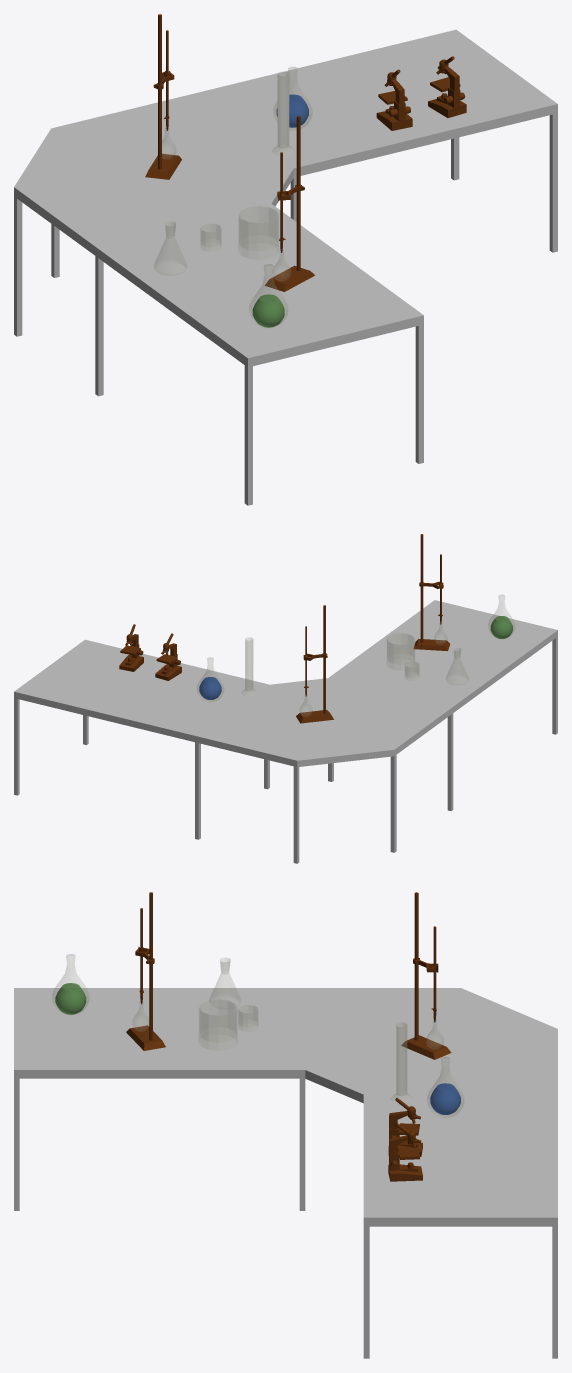
Rendered from science_desk_1.fbx.
3 views of the same model, one above another, from view 1: azimuth 30°, elevation 25°; view 2: azimuth 150°, elevation 25°; view 3: azimuth 270°, elevation 25° (orthographic). The views are drawn at different scales.
Parts seen in each view (by area): view 1: pCube57, polySurface80, pCylinder53, polySurface77, pSphere20, pCylinder49, pCylinder54, pCylinder52, pSphere19, pSphere18, pCylinder50; view 2: pCube57, polySurface80, polySurface77, pCylinder53, pSphere20, pSphere19, pCylinder54, pCylinder49, pCylinder52, pSphere18, pSphere21; view 3: pCube57, polySurface77, pCylinder53, polySurface80, pCylinder49, pSphere20, pSphere19, pCylinder52, pCylinder54, pSphere18, pSphere21, pCylinder50.
Boxes of the visible parts, left/top/right/bottom form: pCube57: left=14, top=29, right=557, bottom=505; polySurface80: left=265, top=116, right=314, bottom=291; pCylinder53: left=238, top=206, right=278, bottom=257; polySurface77: left=145, top=14, right=181, bottom=179; pSphere20: left=249, top=264, right=287, bottom=327; pCylinder49: left=428, top=56, right=466, bottom=117; pCylinder54: left=376, top=69, right=412, bottom=130; pCylinder52: left=272, top=71, right=294, bottom=155; pSphere19: left=273, top=67, right=312, bottom=130; pSphere18: left=252, top=294, right=284, bottom=327; pCylinder50: left=154, top=221, right=186, bottom=269; pCube57: left=14, top=600, right=557, bottom=863; polySurface80: left=413, top=534, right=450, bottom=651; polySurface77: left=296, top=605, right=333, bottom=723; pCylinder53: left=387, top=633, right=415, bottom=669; pSphere20: left=488, top=595, right=515, bottom=639; pSphere19: left=197, top=657, right=223, bottom=701; pCylinder54: left=155, top=633, right=181, bottom=680; pCylinder49: left=119, top=624, right=143, bottom=671; pCylinder52: left=242, top=637, right=256, bottom=695; pSphere18: left=490, top=616, right=512, bottom=638; pSphere21: left=199, top=677, right=221, bottom=699; pCube57: left=14, top=988, right=557, bottom=1358; polySurface77: left=401, top=892, right=451, bottom=1059; pCylinder53: left=199, top=998, right=237, bottom=1050; polySurface80: left=126, top=892, right=165, bottom=1050; pCylinder49: left=388, top=1123, right=422, bottom=1181; pSphere20: left=52, top=954, right=89, bottom=1015; pSphere19: left=427, top=1057, right=463, bottom=1117; pCylinder52: left=391, top=1022, right=411, bottom=1102; pCylinder54: left=388, top=1098, right=422, bottom=1156; pSphere18: left=55, top=983, right=86, bottom=1014; pSphere21: left=430, top=1083, right=460, bottom=1114; pCylinder50: left=209, top=957, right=240, bottom=1003.
Size of the model in its own units: 280 by 166 by 280.
